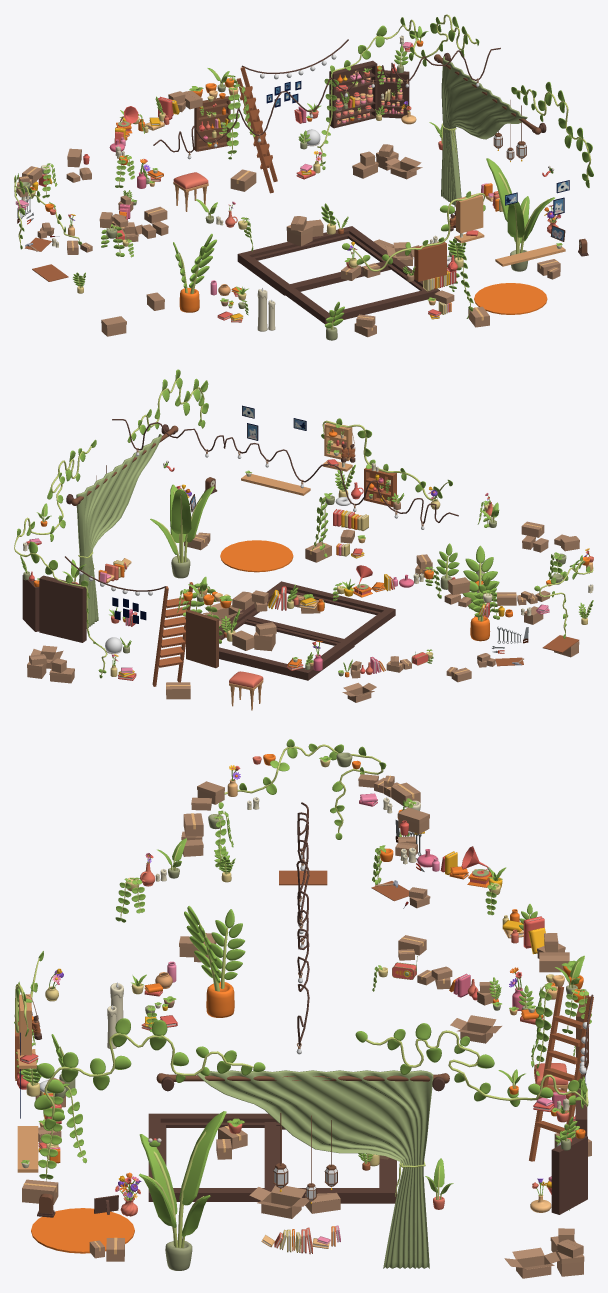
Rendered from 03_Decoration.fbx.
3 views of the same model, one above another, from view 1: azimuth 30°, elevation 25°; view 2: azimuth 150°, elevation 25°; view 3: azimuth 270°, elevation 25° (orthographic). The views are drawn at different scales.
Visible parts, largest first — view 1: Curtain, Plane.1111, Rug, Shelf.007, Shelf.008, Lightcable, Shelf, Shelf.005, Plane.552, Shelf.004, RankeEasy.001, Cube.002 (+11 smaller); view 2: Curtain, Shelf.007, Plane.1111, Rug, Shelf.008, Ladder, Lightcable, Plane.542, RankeEasy.001, Shelf, Plane.552, Shelf.005 (+7 smaller); view 3: Curtain, Plane.1111, Rug, Shelf.005, Lightcable, Cube.002, Plane.141, RankeEasy.001, Ladder, CurtainPole, Plane.542, RankeEasy (+11 smaller).
Part boxes in pixels (x1,y1,x2,y2): Curtain: [441, 56, 527, 206]; Plane.1111: [237, 226, 439, 322]; Rug: [474, 283, 547, 314]; Shelf.007: [329, 60, 377, 128]; Shelf.008: [194, 96, 230, 151]; Lightcable: [153, 47, 500, 152]; Shelf: [414, 241, 446, 281]; Shelf.005: [377, 70, 409, 118]; Plane.552: [237, 233, 391, 295]; Shelf.004: [456, 194, 483, 233]; RankeEasy.001: [317, 14, 477, 166]; Cube.002: [237, 67, 277, 193]; Curtain: [76, 434, 161, 628]; Shelf.007: [39, 575, 86, 642]; Plane.1111: [219, 581, 395, 674]; Rug: [220, 540, 293, 572]; Shelf.008: [186, 610, 218, 668]; Ladder: [158, 597, 190, 667]; Lightcable: [112, 419, 458, 523]; Plane.542: [219, 588, 395, 679]; RankeEasy.001: [14, 446, 107, 676]; Shelf: [364, 468, 396, 507]; Plane.552: [219, 615, 354, 680]; Shelf.005: [22, 575, 39, 631]; Curtain: [197, 1070, 433, 1268]; Plane.1111: [148, 1113, 396, 1200]; Rug: [31, 1208, 134, 1253]; Shelf.005: [551, 1135, 587, 1214]; Lightcable: [296, 802, 309, 1045]; Cube.002: [529, 986, 593, 1161]; Plane.141: [179, 1111, 226, 1205]; RankeEasy.001: [365, 1030, 588, 1106]; Ladder: [535, 1015, 583, 1133]; CurtainPole: [156, 1073, 449, 1083]; Plane.542: [148, 1120, 396, 1201]; RankeEasy: [44, 1033, 253, 1119].
Bounding box in the file's own units: 848 × 324 × 619.
